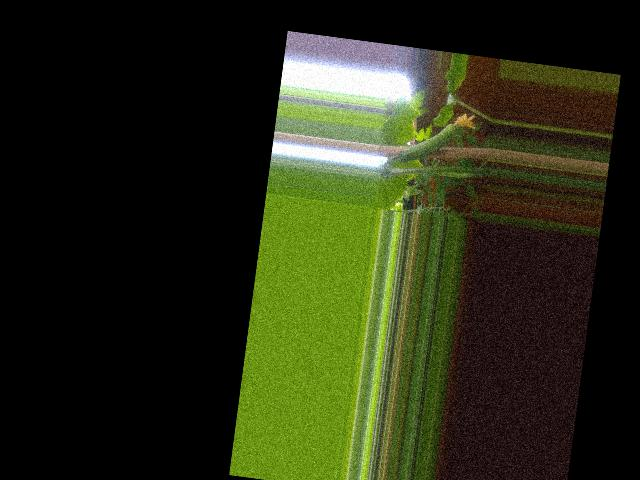cucumber: (397, 104, 478, 170)
